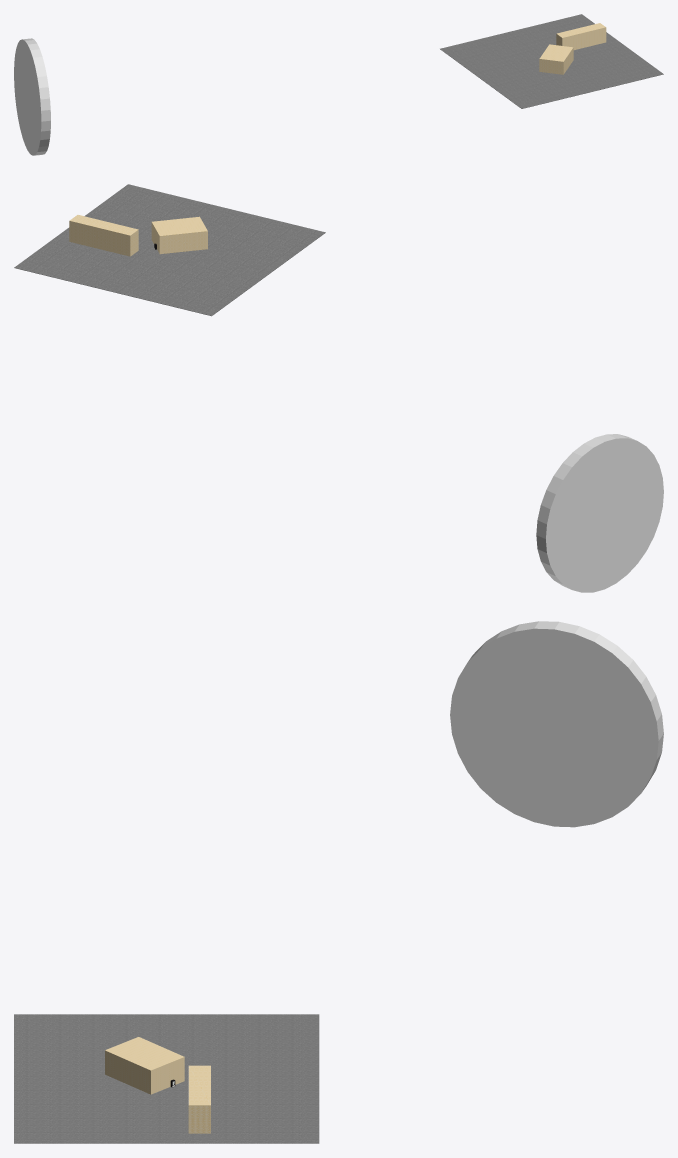
The picture shows the model from 3 angles, top to bottom: view 1: azimuth 30°, elevation 25°; view 2: azimuth 150°, elevation 25°; view 3: azimuth 270°, elevation 25°; orthographic projection. The views are drawn at different scales.
Parts seen in each view (by area): view 1: ground, Circle.008, Cube.001, Cube.002; view 2: ground, Circle.008, Cube.001, Cube.002; view 3: ground, Circle.008, Cube.002, Cube.001.
Part boxes in pixels (x1=…): ground: x1=440, y1=14, x2=663, y2=108; Circle.008: x1=14, y1=38, x2=50, y2=155; Cube.001: x1=556, y1=23, x2=606, y2=50; Cube.002: x1=539, y1=44, x2=573, y2=74; ground: x1=14, y1=184, x2=325, y2=316; Circle.008: x1=536, y1=434, x2=663, y2=592; Cube.001: x1=69, y1=215, x2=138, y2=256; Cube.002: x1=151, y1=216, x2=207, y2=254; ground: x1=14, y1=1014, x2=319, y2=1143; Circle.008: x1=450, y1=621, x2=663, y2=827; Cube.002: x1=105, y1=1037, x2=184, y2=1094; Cube.001: x1=188, y1=1065, x2=210, y2=1133.
Size of the model in its own units: 653 by 131 by 392.
9 materials, 9 textured.
